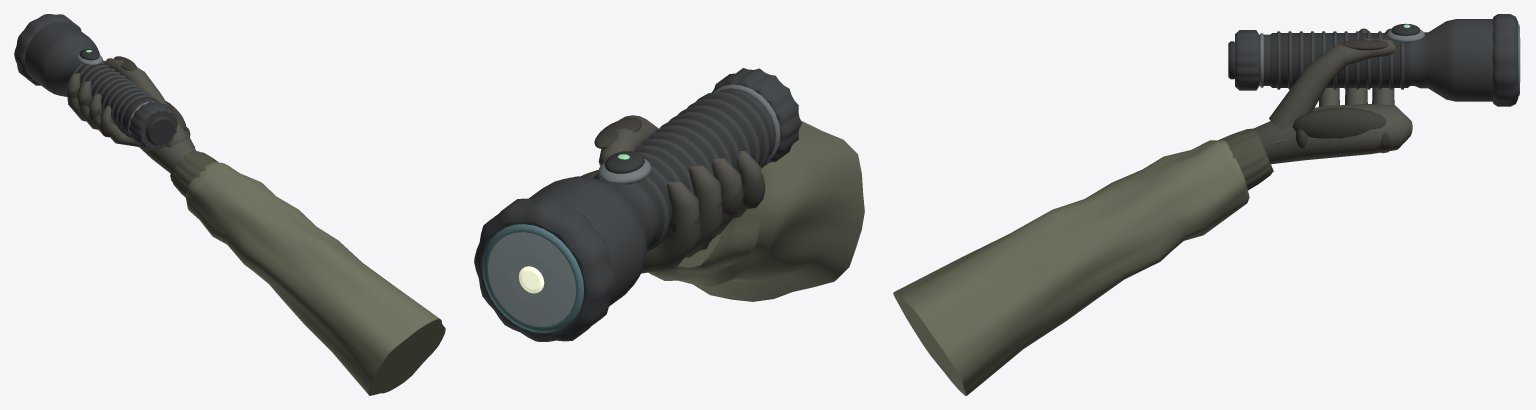
File: hand_flashlight.glb
3 views of the same model, side by side, from view 1: azimuth 30°, elevation 25°; view 2: azimuth 150°, elevation 25°; view 3: azimuth 270°, elevation 25° (orthographic). The views are drawn at different scales.
Parts seen in each view (by area): view 1: Jacket sleeve, Flashlight, Right glove; view 2: Flashlight, Jacket sleeve, Right glove; view 3: Jacket sleeve, Flashlight, Right glove.
Boxes of the visible parts, left/top/right/bottom form: Jacket sleeve: left=170, top=150, right=445, bottom=395; Flashlight: left=14, top=14, right=177, bottom=150; Right glove: left=66, top=56, right=195, bottom=173; Flashlight: left=474, top=68, right=801, bottom=341; Jacket sleeve: left=648, top=120, right=864, bottom=301; Right glove: left=580, top=115, right=765, bottom=273; Jacket sleeve: left=893, top=128, right=1273, bottom=395; Flashlight: left=1228, top=14, right=1521, bottom=106; Right glove: left=1253, top=28, right=1412, bottom=164.
Bounding box in the file's own units: 0.2581 × 0.2927 × 0.559.
